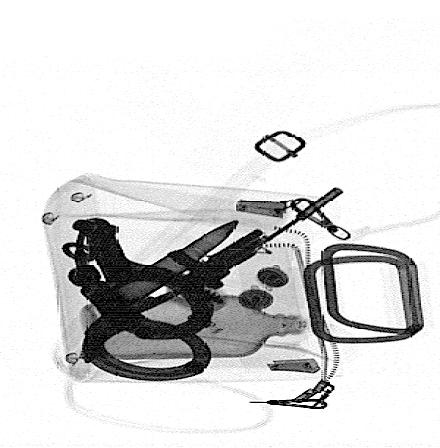Bullet: (107, 220, 237, 306)
Gun: (111, 187, 343, 315)
HandCuffs: (57, 216, 217, 383)
